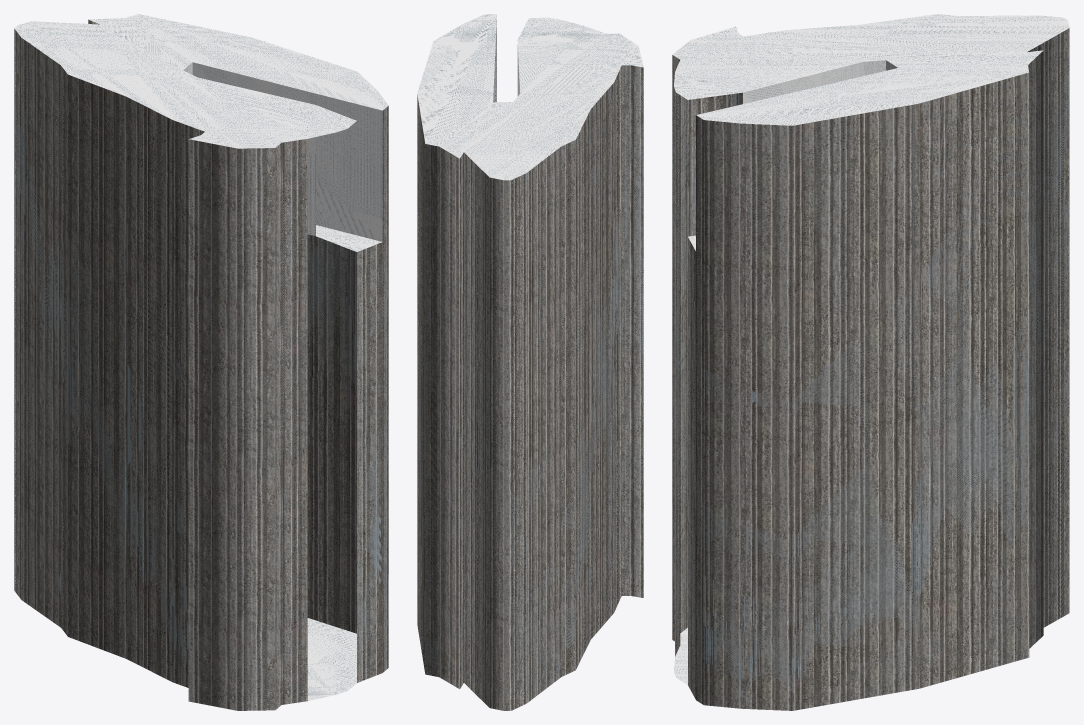
File: pillar.dae
3 views of the same model, side by side, from view 1: azimuth 30°, elevation 25°; view 2: azimuth 150°, elevation 25°; view 3: azimuth 270°, elevation 25° (orthographic). The views are drawn at different scales.
Parts seen in each view (by area): view 1: SketchUp (×3); view 2: SketchUp (×2); view 3: SketchUp (×2).
Part boxes in pixels (<box>): SketchUp (×3): <box>14,14,388,710</box>; SketchUp (×2): <box>417,14,643,710</box>; SketchUp (×2): <box>672,14,1069,710</box>.
Size of the model in its own units: 36.52 by 54.83 by 89.12.
Materials: 3 (1 with a texture image).
